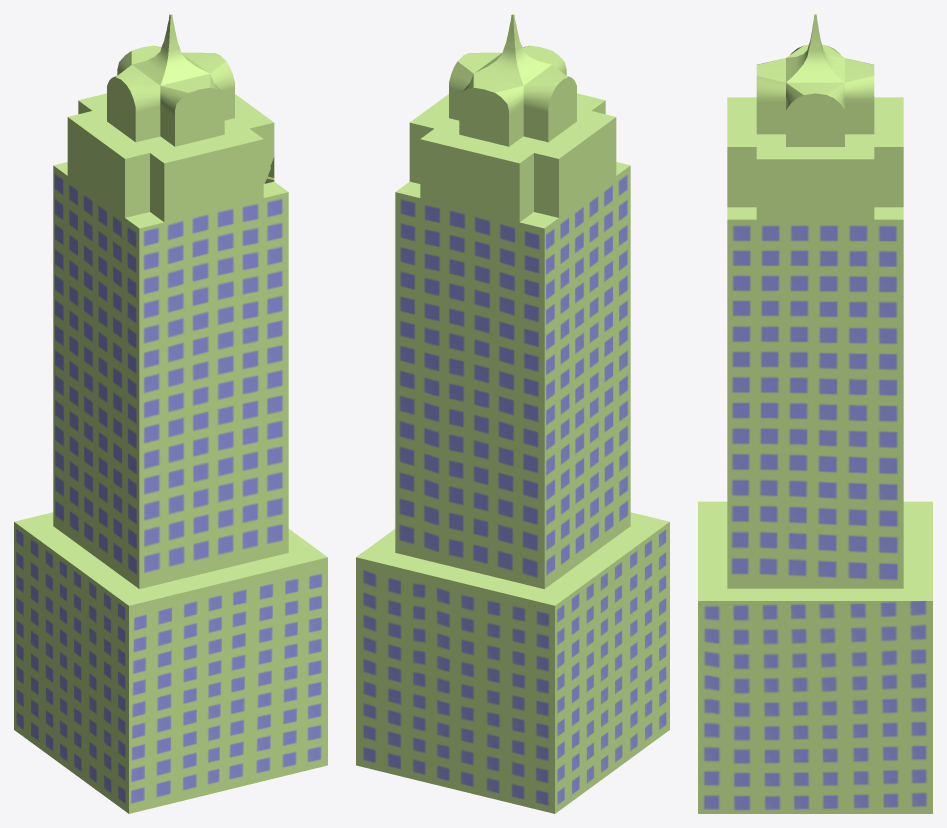
The model's file is cbWhole.fbx.
The picture shows the model from 3 angles, left to right: view 1: azimuth 30°, elevation 25°; view 2: azimuth 150°, elevation 25°; view 3: azimuth 270°, elevation 25°; orthographic projection. The views are drawn at different scales.
Visible parts, largest first — view 1: ChryslarBuilding; view 2: ChryslarBuilding; view 3: ChryslarBuilding.
Boxes of the visible parts, left/top/right/bottom form: ChryslarBuilding: left=14, top=14, right=327, bottom=813; ChryslarBuilding: left=356, top=14, right=669, bottom=813; ChryslarBuilding: left=698, top=14, right=932, bottom=813.
Size of the model in its own units: 0.0953 by 0.3355 by 0.0953.
Materials: 1 (1 with a texture image).
